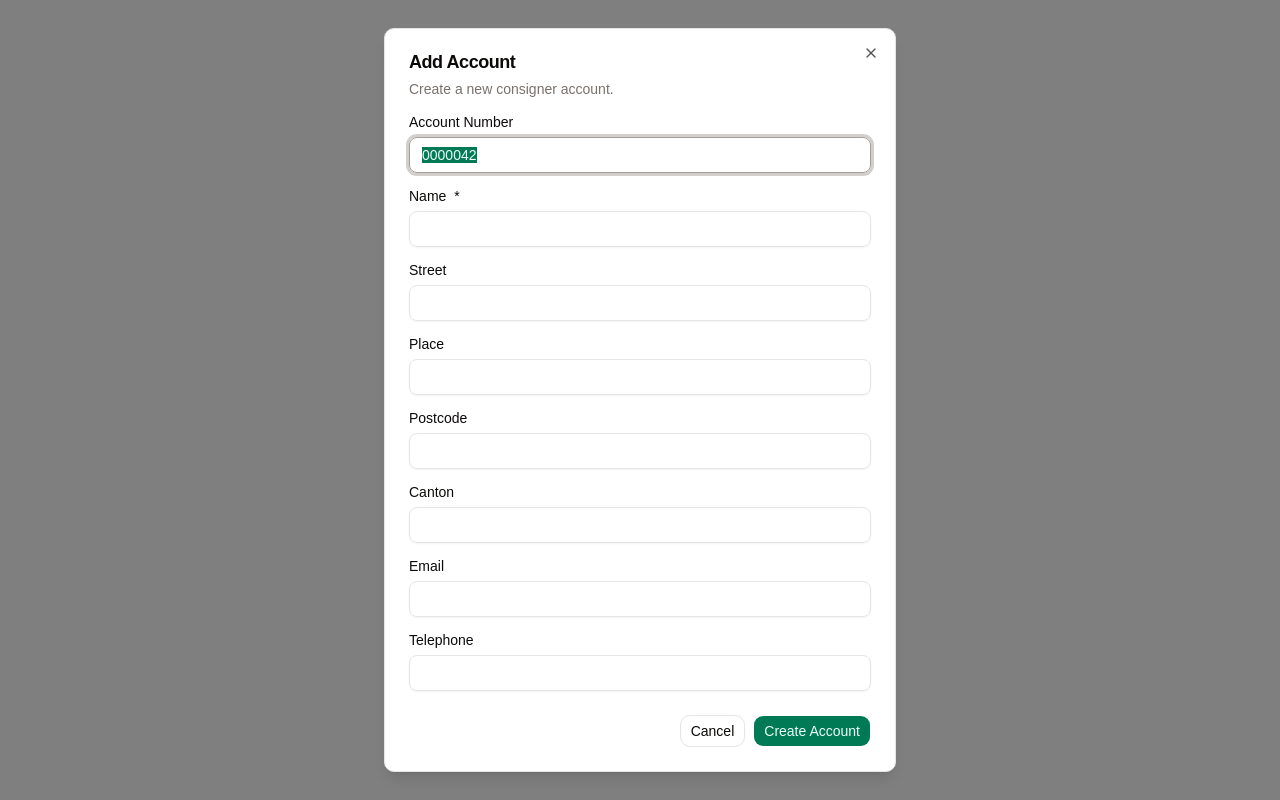
Test: AccountForm › submission disabling › disables all inputs and submit button during submission
In the field labelled "Name *": [640, 229] box [409,211,871,247], type "Test Account"
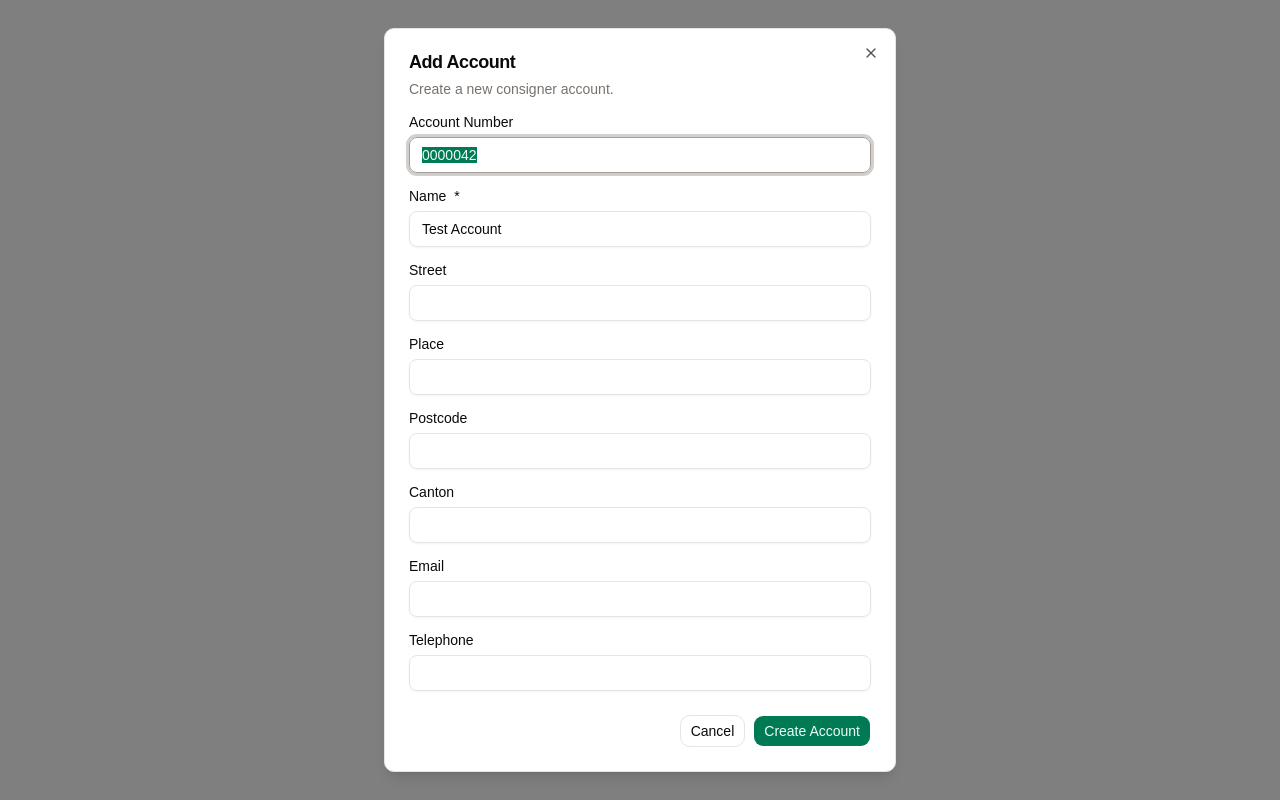
Submit the form, box [409,115,871,747]
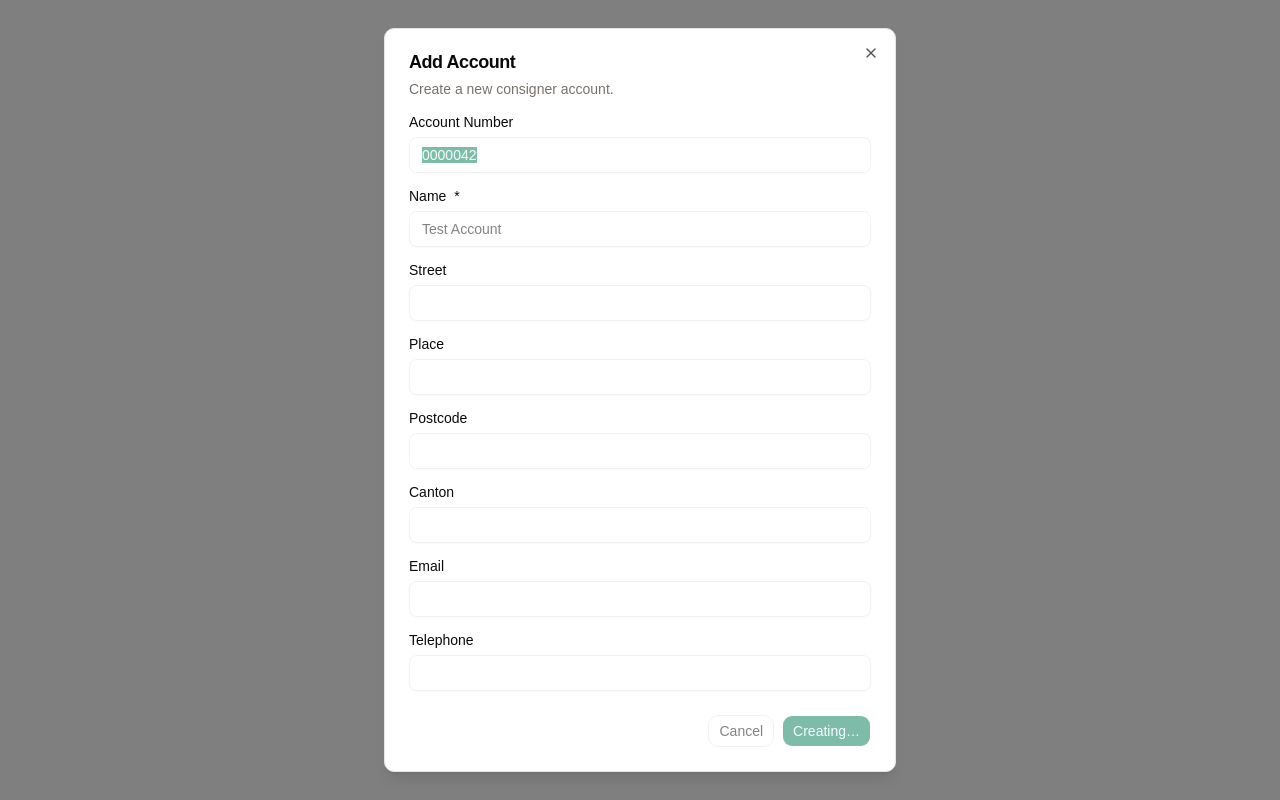
Expected: the field labelled "Account Number" is disabled, [409,137,871,173]
Expected: the field labelled "Name *" is disabled, [409,211,871,247]
Expected: the button "Creating…" is disabled, [782,715,871,747]
